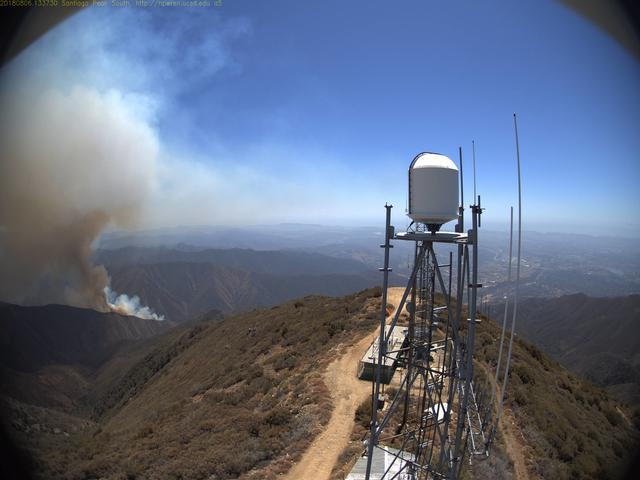smoke: (3, 71, 168, 324)
